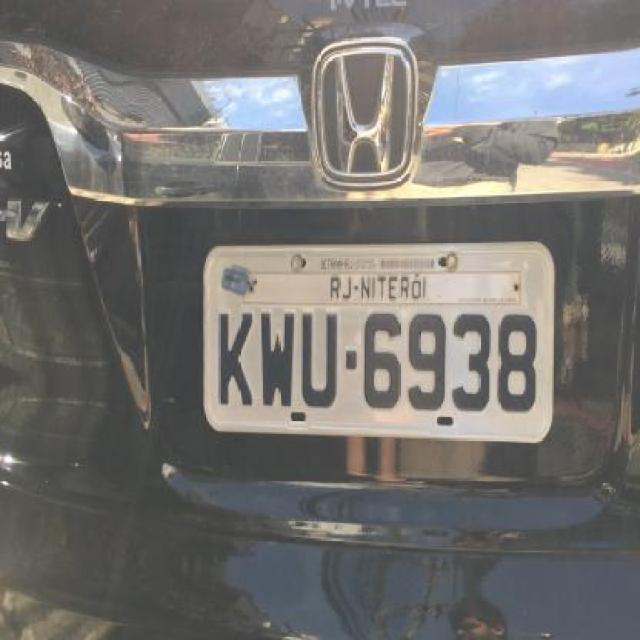old_plate: (196, 235, 563, 449)
